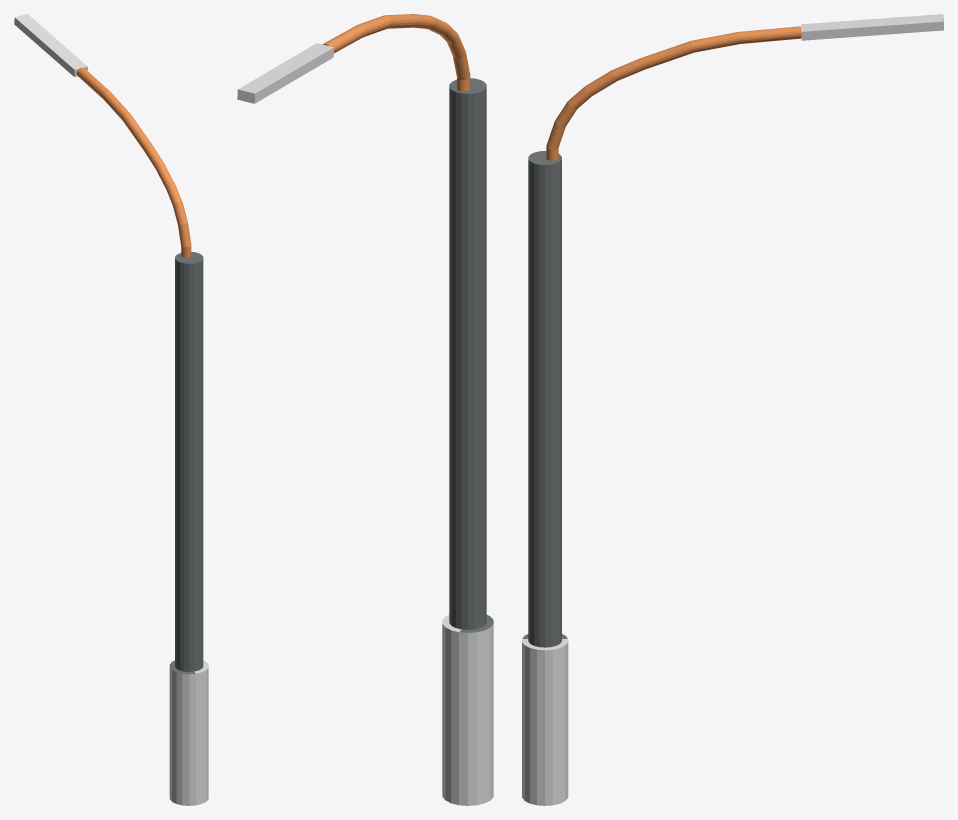
File: Fonarni Stolb.fbx
3 views of the same model, side by side, from view 1: azimuth 30°, elevation 25°; view 2: azimuth 150°, elevation 25°; view 3: azimuth 270°, elevation 25° (orthographic). The views are drawn at different scales.
Visible parts, largest first — view 1: Cylinder.007; view 2: Cylinder.007; view 3: Cylinder.007.
Boxes of the visible parts, x1=… form: Cylinder.007: x1=14, y1=14, x2=208, y2=805; Cylinder.007: x1=237, y1=14, x2=493, y2=805; Cylinder.007: x1=522, y1=14, x2=943, y2=805.
Bounding box in the file's own units: 96.69 × 1776 × 872.
